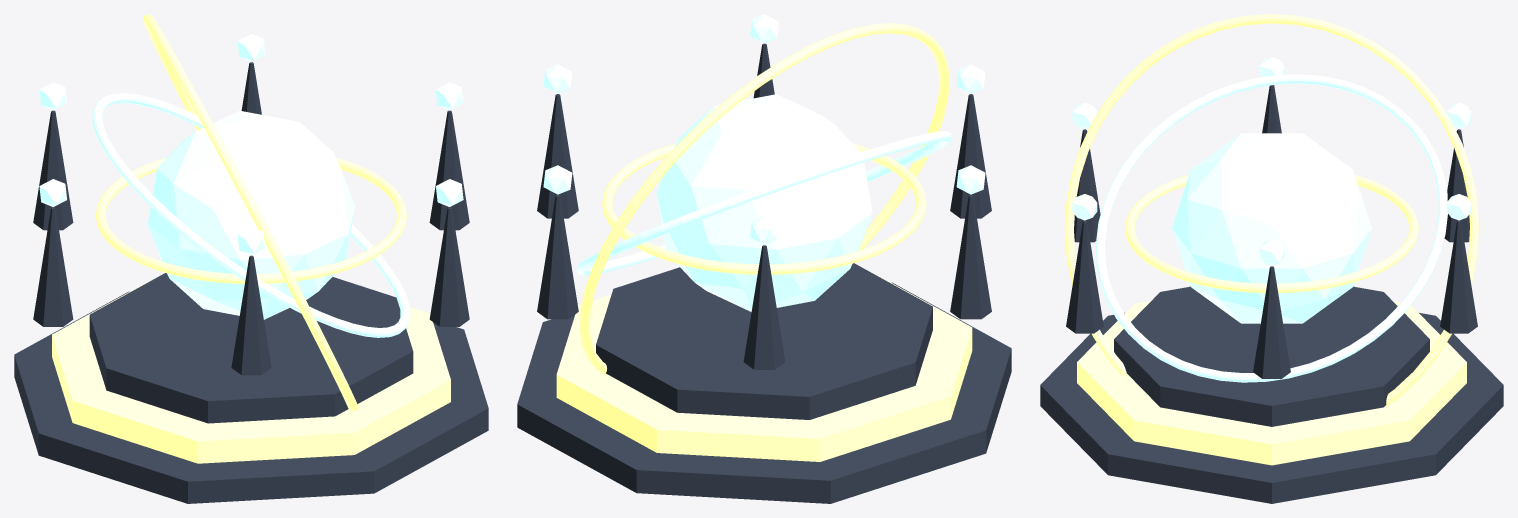
The model's file is gpu-blender-v52.glb.
3 renders of one model, left to right at view 1: azimuth 30°, elevation 25°; view 2: azimuth 150°, elevation 25°; view 3: azimuth 270°, elevation 25°, orthographic. The views are drawn at different scales.
Visible parts, largest first — view 1: Cylinder.002, SovereignCore_agent-prompt-firewall, Cylinder, Cylinder.001, Torus.001, Torus.002, Torus, Cone.004, Cone.003, Cone.005, Cone, Cone.002 (+7 smaller); view 2: Cylinder.002, SovereignCore_agent-prompt-firewall, Cylinder, Cylinder.001, Torus.002, Torus.001, Torus, Cone.001, Cone.003, Cone.002, Cone, Cone.004 (+6 smaller); view 3: SovereignCore_agent-prompt-firewall, Cylinder.002, Cylinder, Cylinder.001, Torus.001, Torus.002, Torus, Cone.001, Cone.005, Cone, Cone.004, Cone.002 (+4 smaller).
Boxes of the visible parts, left/top/right/bottom form: Cylinder.002: left=89, top=273, right=413, bottom=423; SovereignCore_agent-prompt-firewall: left=147, top=110, right=355, bottom=319; Cylinder: left=14, top=291, right=488, bottom=503; Cylinder.001: left=52, top=281, right=450, bottom=463; Torus.001: left=92, top=93, right=410, bottom=337; Torus.002: left=143, top=14, right=358, bottom=411; Torus: left=95, top=158, right=407, bottom=283; Cone.004: left=231, top=255, right=271, bottom=375; Cone.003: left=33, top=207, right=73, bottom=326; Cone.005: left=429, top=207, right=469, bottom=326; Cone: left=429, top=110, right=469, bottom=230; Cone.002: left=33, top=110, right=73, bottom=230; Cylinder.002: left=596, top=263, right=932, bottom=419; SovereignCore_agent-prompt-firewall: left=656, top=94, right=872, bottom=311; Cylinder: left=517, top=282, right=1011, bottom=503; Cylinder.001: left=556, top=272, right=972, bottom=461; Torus.002: left=579, top=23, right=949, bottom=374; Torus.001: left=577, top=131, right=951, bottom=275; Torus: left=602, top=143, right=926, bottom=274; Cone.001: left=537, top=195, right=578, bottom=319; Cone.003: left=950, top=195, right=991, bottom=319; Cone.002: left=743, top=245, right=785, bottom=369; Cone: left=537, top=94, right=578, bottom=218; Cone.004: left=950, top=94, right=991, bottom=218; SovereignCore_agent-prompt-firewall: left=1172, top=133, right=1371, bottom=323; Cylinder.002: left=1114, top=286, right=1429, bottom=426; Cylinder: left=1040, top=313, right=1503, bottom=503; Cylinder.001: left=1077, top=301, right=1466, bottom=465; Torus.001: left=1096, top=74, right=1447, bottom=382; Torus.002: left=1064, top=14, right=1479, bottom=406; Torus: left=1125, top=175, right=1418, bottom=292; Cone.001: left=1440, top=220, right=1477, bottom=333; Cone.005: left=1066, top=220, right=1103, bottom=333; Cone: left=1253, top=266, right=1290, bottom=378; Cone.004: left=1074, top=129, right=1100, bottom=242; Cone.002: left=1444, top=129, right=1469, bottom=242.
Bounding box in the file's own units: 4.41 × 3.72 × 4.4.
